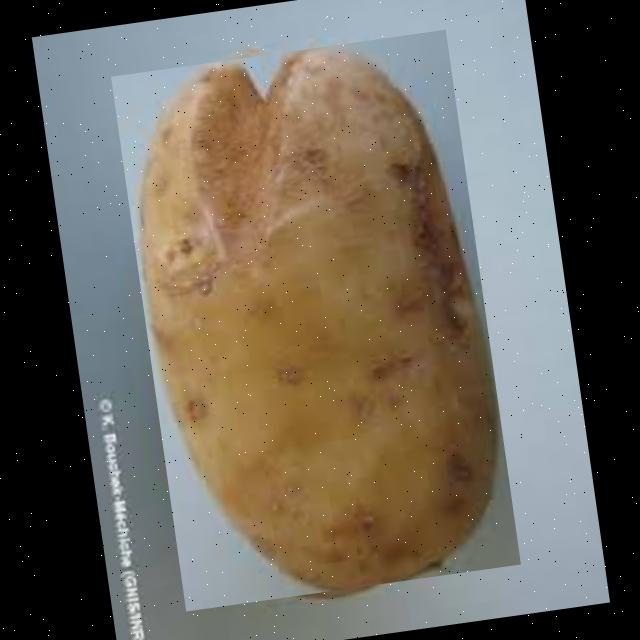Damaged potato: (110, 29, 520, 612)
